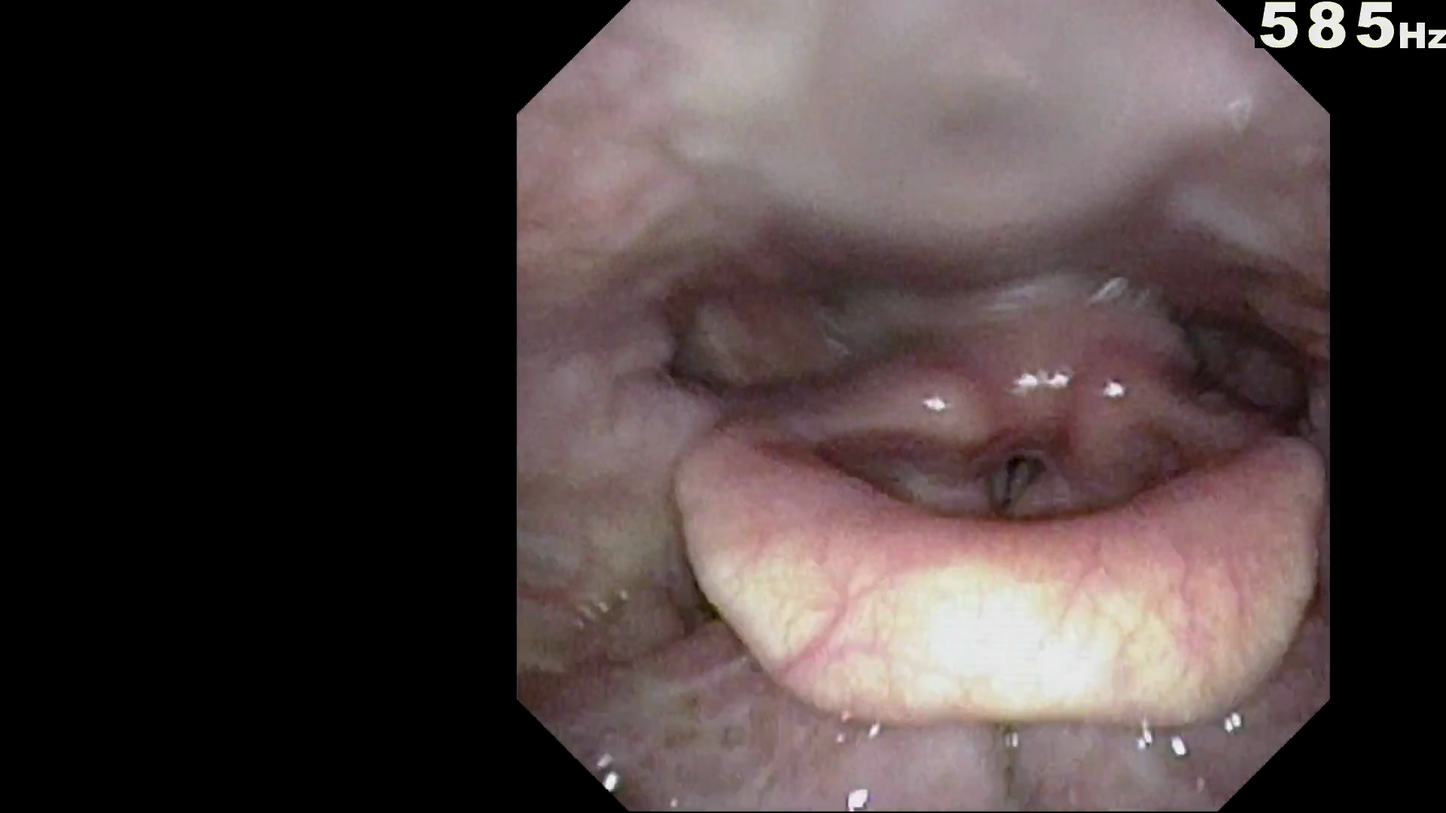epiglottis: (678, 375, 1327, 660)
trachea: (958, 378, 1060, 502)
